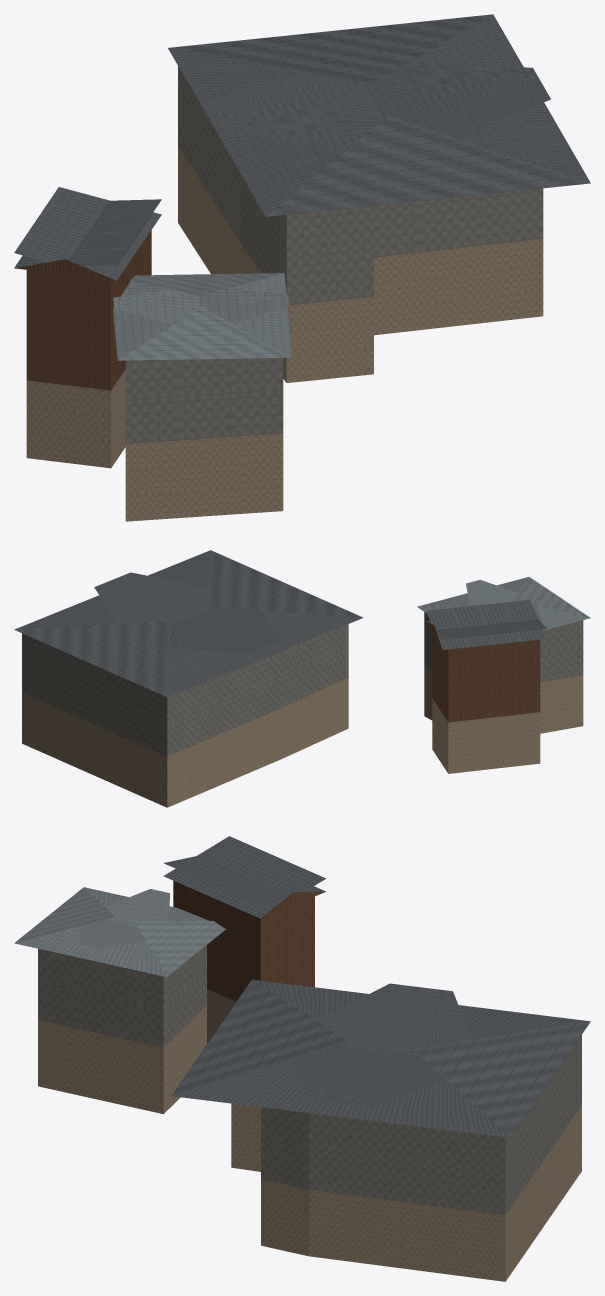
The model's file is bld_c10_10_499.gltf.
The picture shows the model from 3 angles, top to bottom: view 1: azimuth 30°, elevation 25°; view 2: azimuth 150°, elevation 25°; view 3: azimuth 270°, elevation 25°; orthographic projection. The views are drawn at different scales.
Visible parts, largest first — view 1: bld_c10_10_499; view 2: bld_c10_10_499; view 3: bld_c10_10_499.
Boxes of the visible parts, x1,y1,x2,y2 form: bld_c10_10_499: (14, 14, 590, 521); bld_c10_10_499: (14, 550, 590, 807); bld_c10_10_499: (14, 836, 590, 1281).
Size of the model in its own units: 44.17 by 14.1 by 40.01.
Materials: 6 (6 with a texture image).
